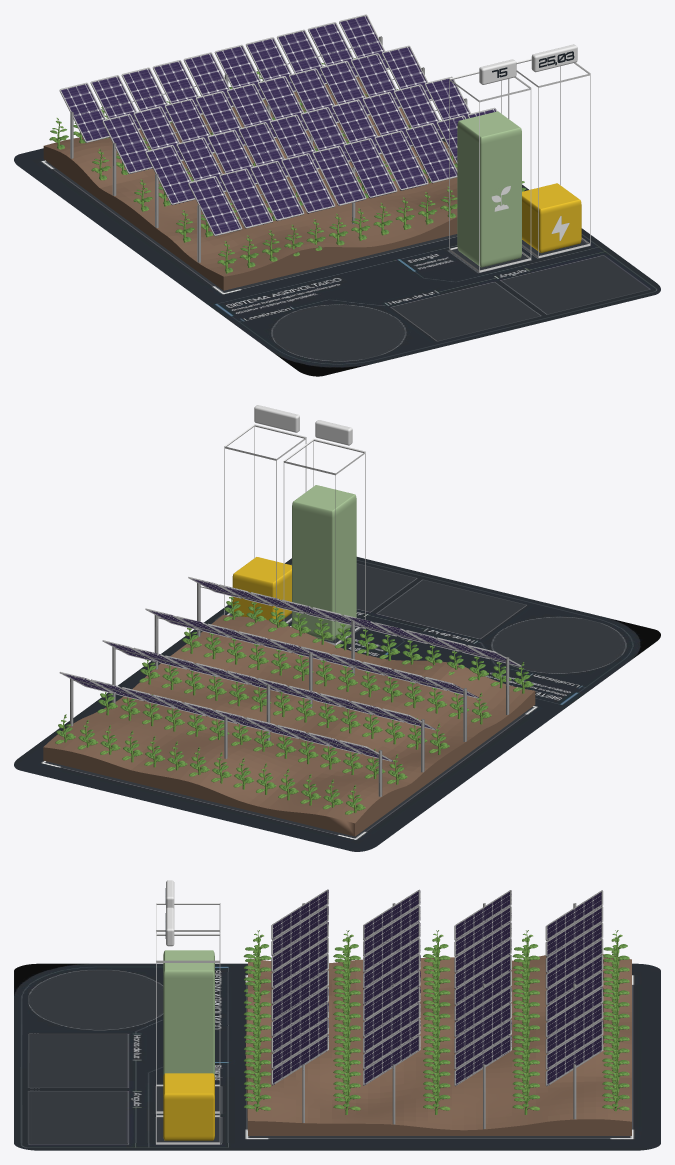
The model's file is alemania+invierno+35.glb.
3 views of the same model, one above another, from view 1: azimuth 30°, elevation 25°; view 2: azimuth 150°, elevation 25°; view 3: azimuth 270°, elevation 25° (orthographic). The views are drawn at different scales.
Parts seen in each view (by area): view 1: panelpintado.002 (×2), Tablero, Cube, Box, Box 1, Cube.001 (×2), Box 2 (×2), Cube.002; view 2: Cube, Tablero, panelpintado.002 (×2), Box, Cube.001 (×2), Cube.002 (×2), Box 1, Box 2 (×2); view 3: Tablero, panelpintado.002 (×2), Cube, Box, Box 1, Cube.002, Cube.001.
Boxes of the visible parts, bbox=[...] form: panelpintado.002 (×2): bbox=[59, 14, 496, 236]; Tablero: bbox=[14, 139, 660, 376]; Cube: bbox=[43, 77, 457, 290]; Box: bbox=[457, 111, 521, 267]; Box 1: bbox=[522, 183, 581, 252]; Cube.001 (×2): bbox=[70, 36, 531, 272]; Box 2 (×2): bbox=[479, 44, 577, 84]; Cube.002: bbox=[508, 58, 590, 258]; Cube: bbox=[43, 615, 535, 836]; Tablero: bbox=[14, 557, 660, 851]; panelpintado.002 (×2): bbox=[59, 577, 521, 761]; Box: bbox=[292, 485, 356, 641]; Cube.001 (×2): bbox=[70, 439, 509, 796]; Cube.002 (×2): bbox=[73, 424, 505, 754]; Box 1: bbox=[232, 557, 291, 622]; Box 2 (×2): bbox=[254, 405, 352, 445]; Tablero: bbox=[14, 963, 660, 1150]; panelpintado.002 (×2): bbox=[271, 889, 603, 1086]; Cube: bbox=[245, 954, 631, 1135]; Box: bbox=[163, 950, 214, 1077]; Box 1: bbox=[163, 1073, 214, 1140]; Cube.002: bbox=[156, 933, 220, 1144]; Cube.001: bbox=[302, 903, 576, 1129].
Size of the model in its own units: 0.2418 by 0.1274 by 0.3537.
16 materials, 5 textured.
